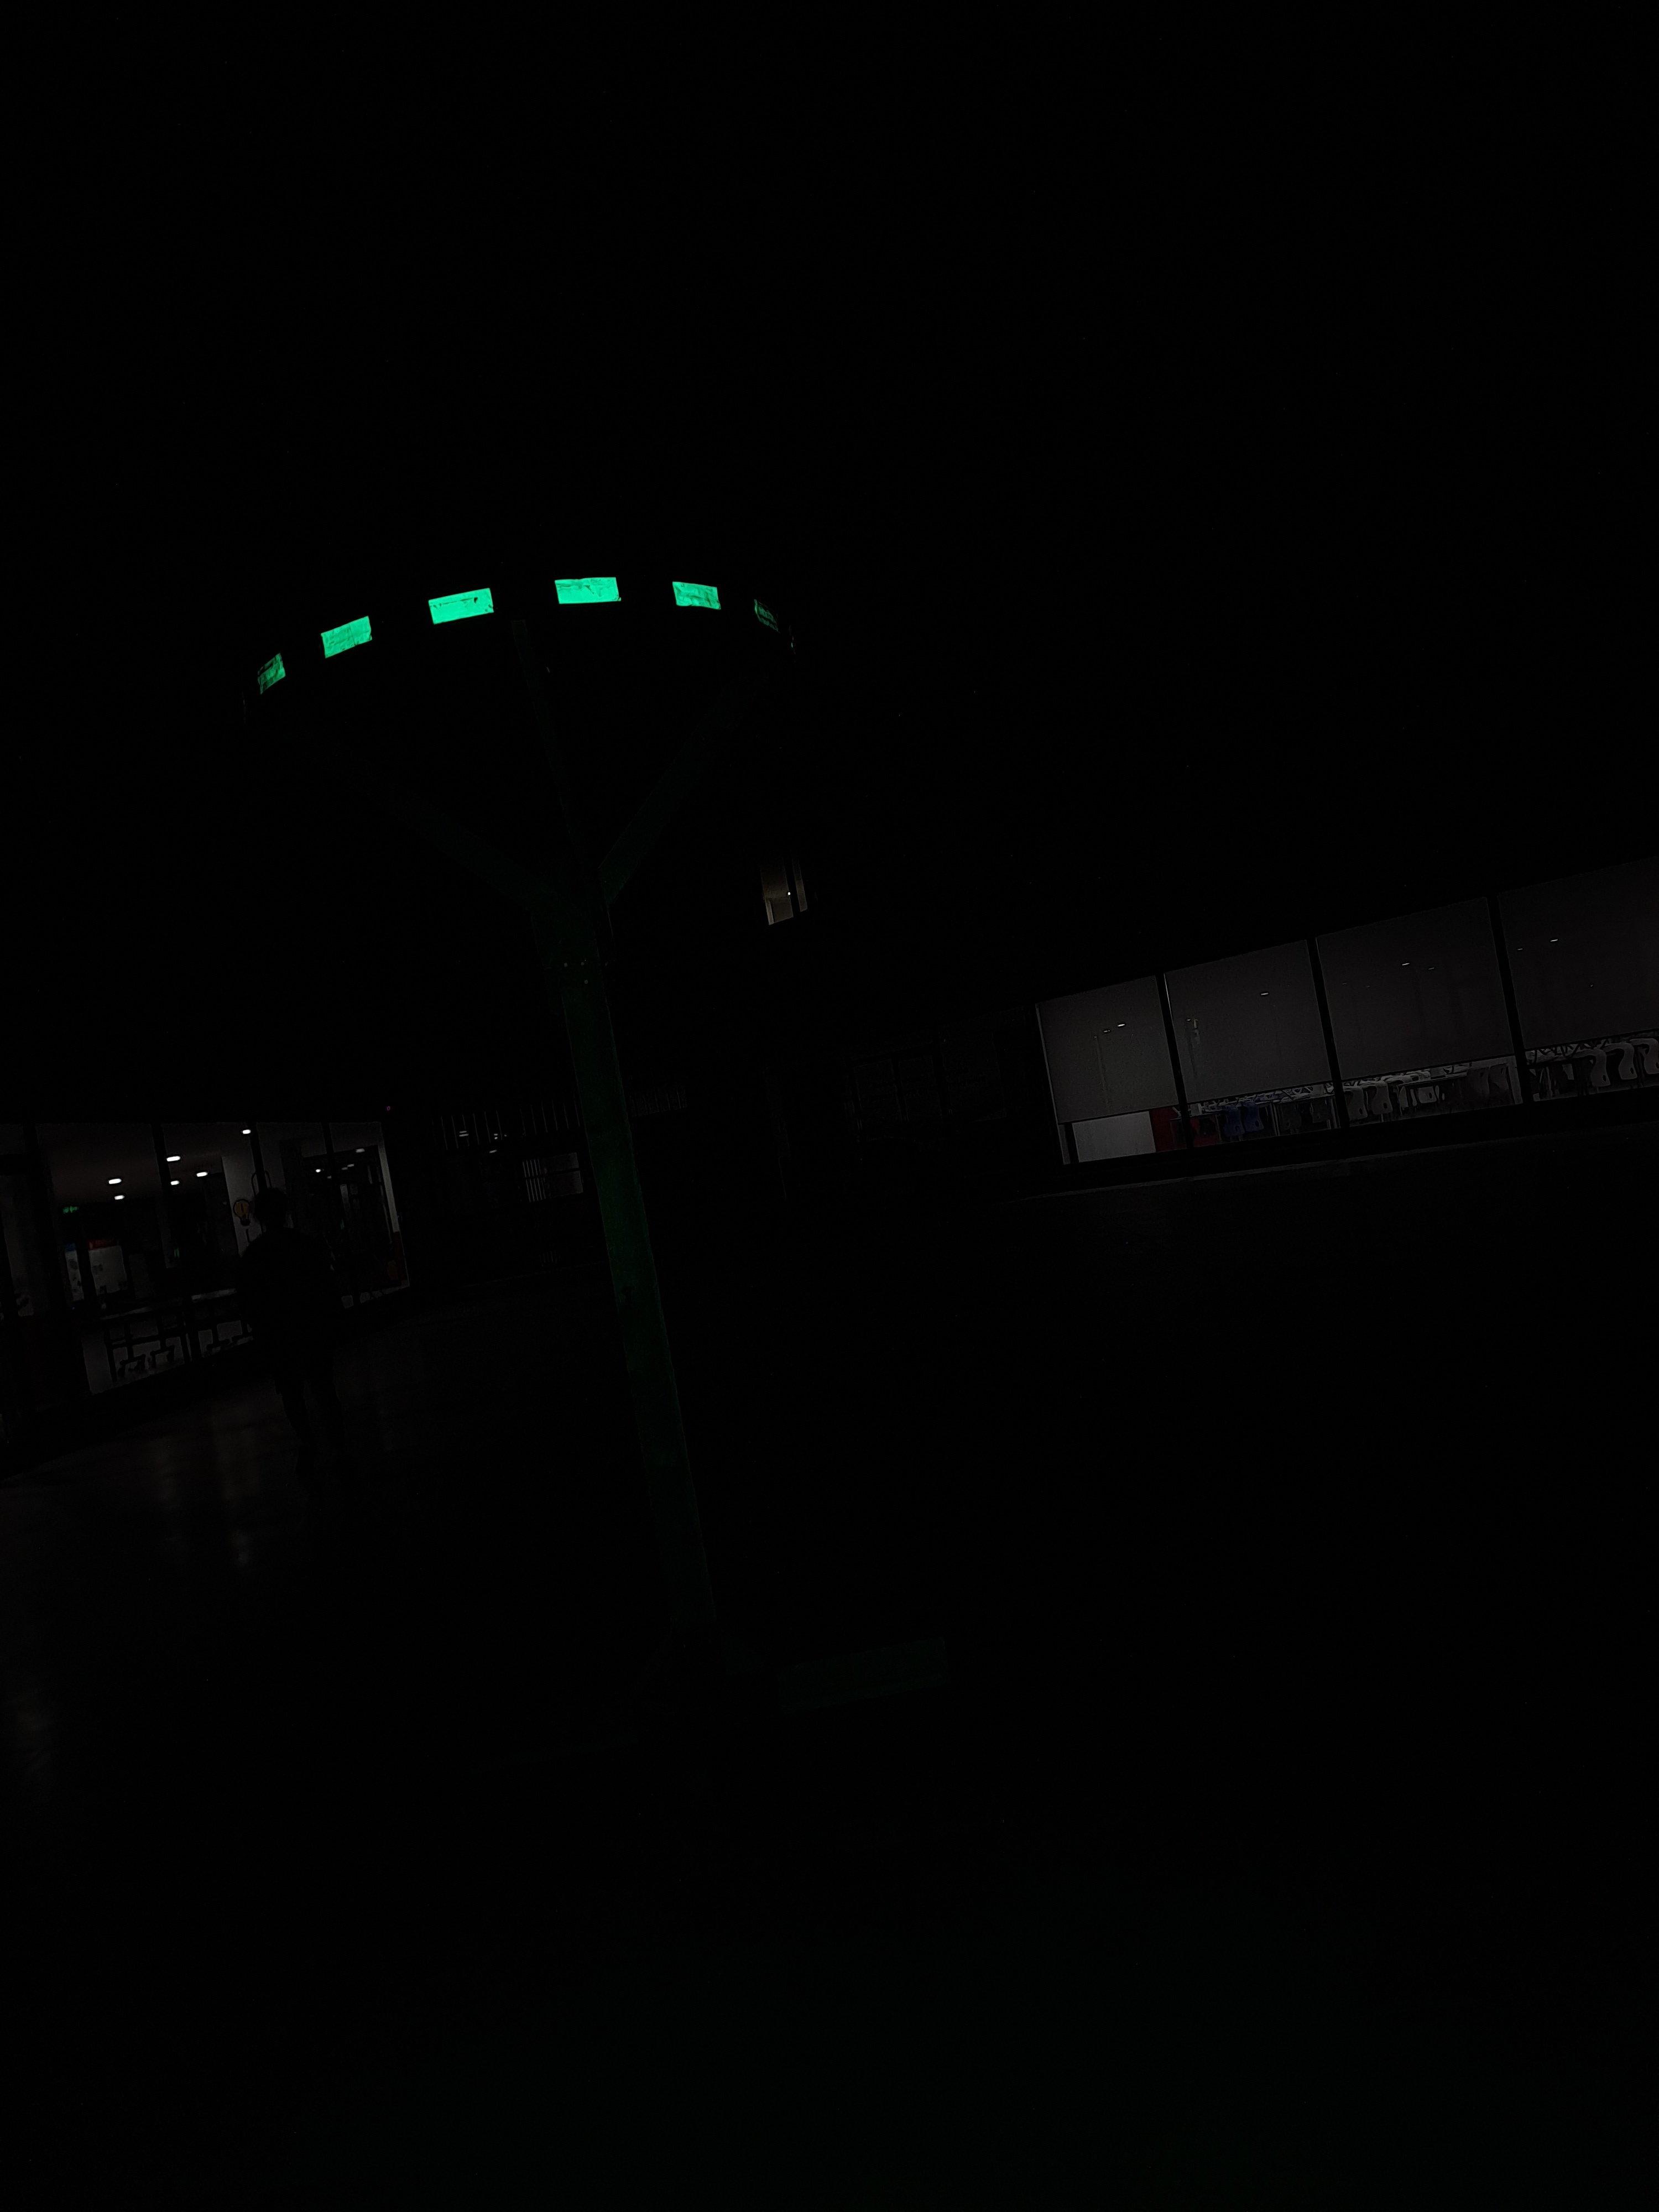hoop: (251, 564, 728, 705)
